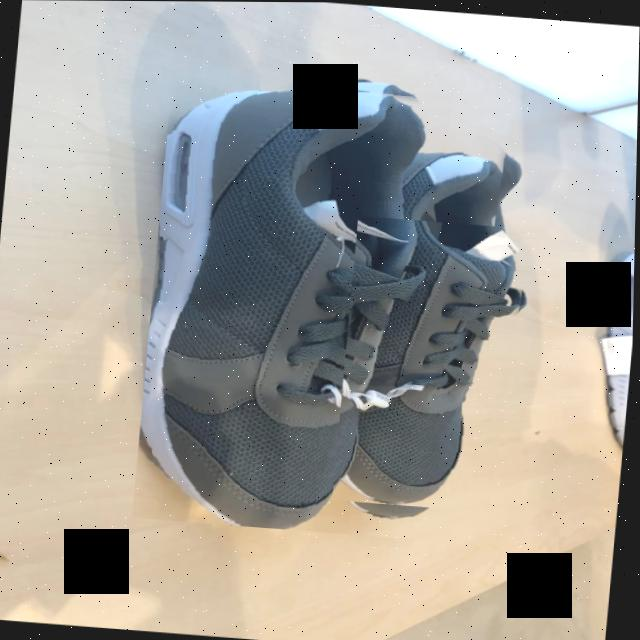shoe: (142, 87, 502, 529), (335, 226, 523, 505)
